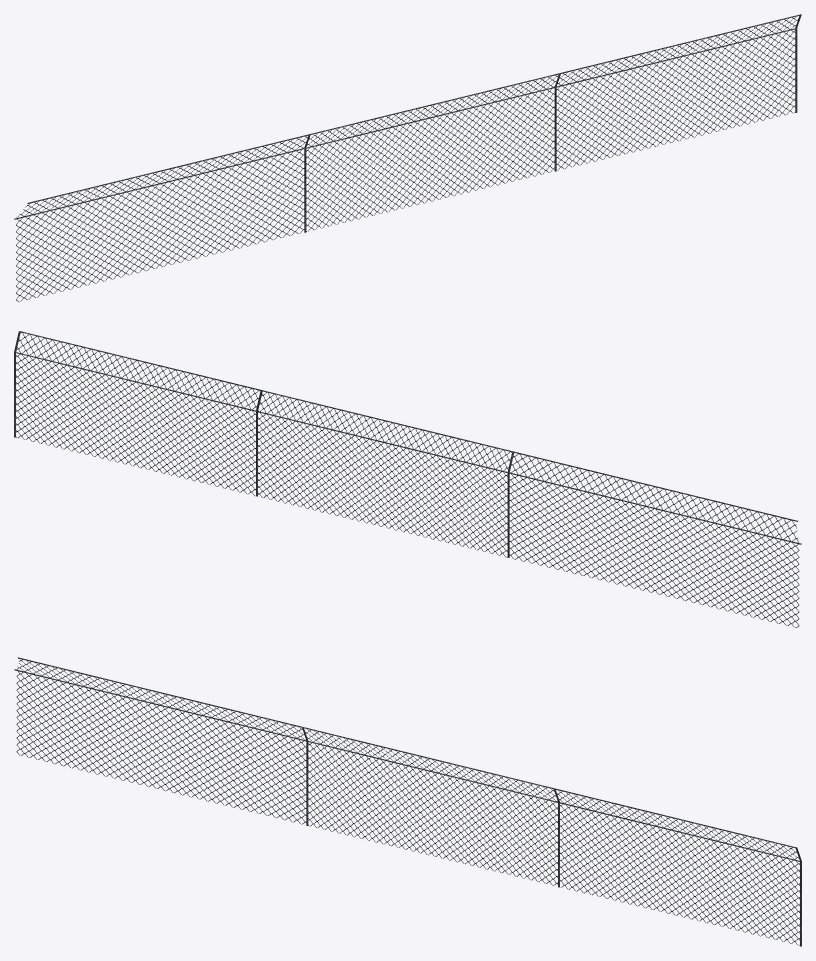
Rendered from M10_Z1_FootBridge03C.glb.
The picture shows the model from 3 angles, top to bottom: view 1: azimuth 30°, elevation 25°; view 2: azimuth 150°, elevation 25°; view 3: azimuth 330°, elevation 25°; orthographic projection.
Parts seen in each view (by area): view 1: M10_Z1_FOOTBRIDGE03C; view 2: M10_Z1_FOOTBRIDGE03C; view 3: M10_Z1_FOOTBRIDGE03C.
Part boxes in pixels (x1=…): M10_Z1_FOOTBRIDGE03C: x1=14, y1=14, x2=801, y2=301; M10_Z1_FOOTBRIDGE03C: x1=14, y1=331, x2=801, y2=627; M10_Z1_FOOTBRIDGE03C: x1=14, y1=657, x2=801, y2=946.
Size of the model in its own units: 11.89 by 1.48 by 0.141.
2 materials, 2 textured.
